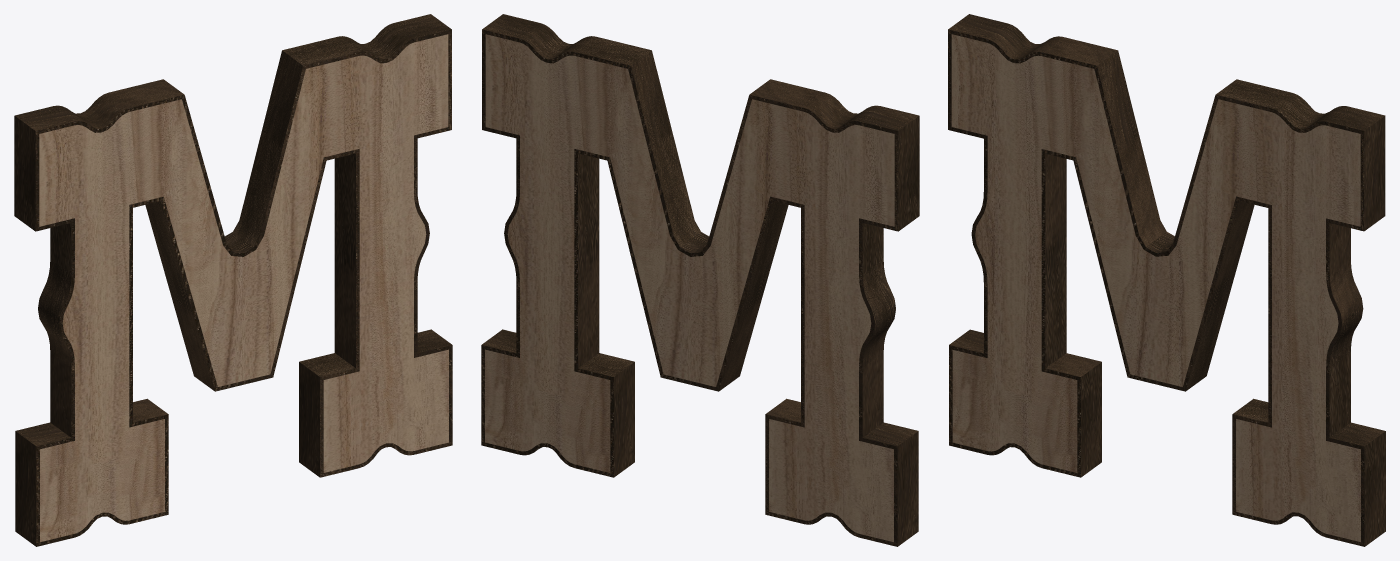
The picture shows the model from 3 angles, left to right: view 1: azimuth 30°, elevation 25°; view 2: azimuth 150°, elevation 25°; view 3: azimuth 330°, elevation 25°; orthographic projection.
Visible parts, largest first — view 1: M, M_outline; view 2: M, M_outline; view 3: M, M_outline.
Boxes of the visible parts, left/top/right/bottom form: M: left=39, top=34, right=448, bottom=542; M_outline: left=14, top=14, right=452, bottom=546; M: left=485, top=34, right=894, bottom=542; M_outline: left=481, top=14, right=919, bottom=546; M: left=951, top=34, right=1360, bottom=541; M_outline: left=948, top=14, right=1385, bottom=546.
Size of the model in its own units: 114 by 109 by 10.
2 materials, 2 textured.
